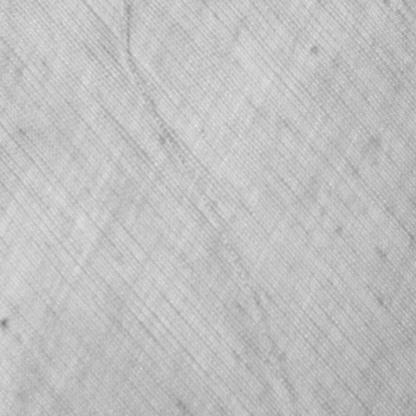objects: (118, 0, 301, 415)
